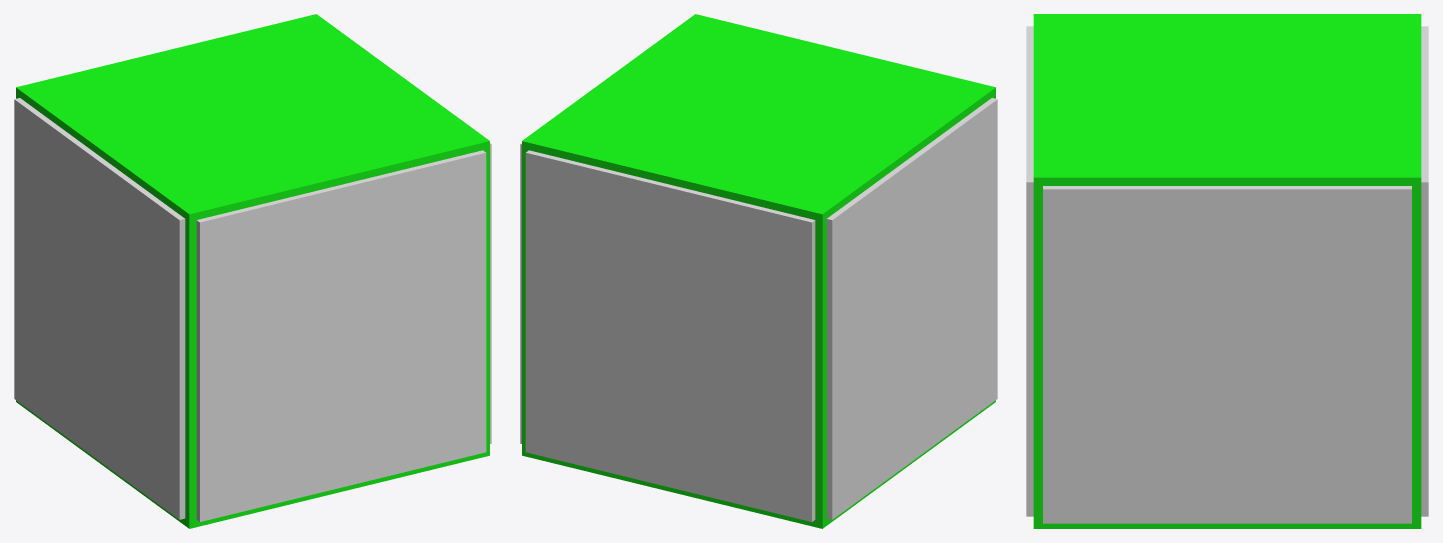
3 views of the same model, side by side, from view 1: azimuth 30°, elevation 25°; view 2: azimuth 150°, elevation 25°; view 3: azimuth 270°, elevation 25° (orthographic). The views are drawn at different scales.
Visible parts, largest first — view 1: sideD, centralCube, sideC, sideA; view 2: sideB, centralCube, sideC, sideA; view 3: sideA, centralCube, sideB, sideD.
Boxes of the visible parts, x1,y1,x2,y2 form: sideD: (196,150,486,521); centralCube: (16,14,489,528); sideC: (14,98,185,519); sideA: (490,143,491,443); sideB: (525,150,815,521); centralCube: (522,14,995,528); sideC: (826,98,997,519); sideA: (520,143,521,443); sideA: (1043,186,1411,523); centralCube: (1033,14,1421,528); sideB: (1421,26,1428,516); sideD: (1026,26,1033,516).
Size of the model in its own units: 2.18 by 2.1 by 2.18.
